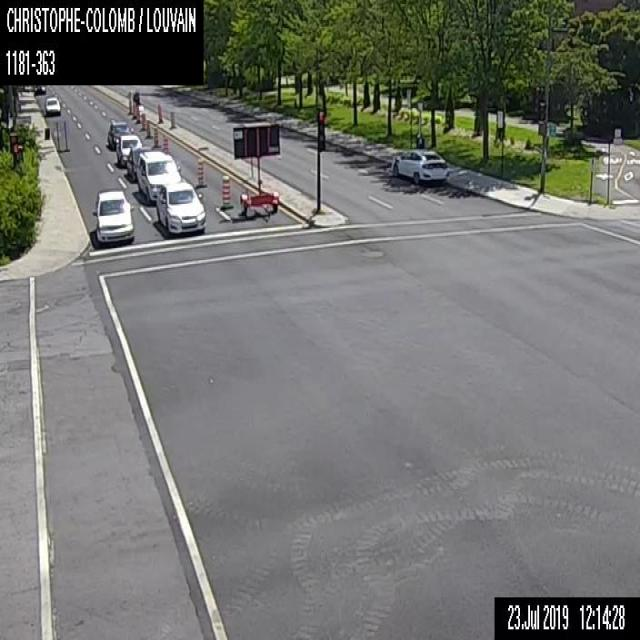construction: (232, 120, 281, 212), (220, 172, 231, 208), (59, 116, 70, 150), (50, 116, 60, 150), (195, 157, 206, 187), (152, 126, 159, 148), (168, 110, 176, 128), (161, 133, 168, 152), (131, 100, 137, 118), (135, 104, 141, 122), (140, 112, 146, 130), (145, 119, 150, 137), (157, 104, 162, 122), (128, 98, 132, 114)
vehicle: (156, 180, 205, 234), (136, 150, 181, 203), (92, 188, 134, 243), (391, 145, 451, 183), (115, 132, 142, 166), (127, 145, 152, 181), (107, 120, 133, 148), (44, 95, 60, 114), (127, 88, 139, 104), (34, 84, 46, 94)
